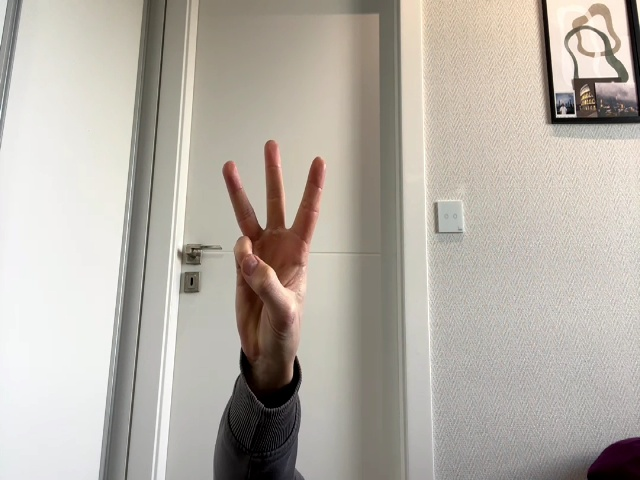W: (222, 140, 325, 359)
